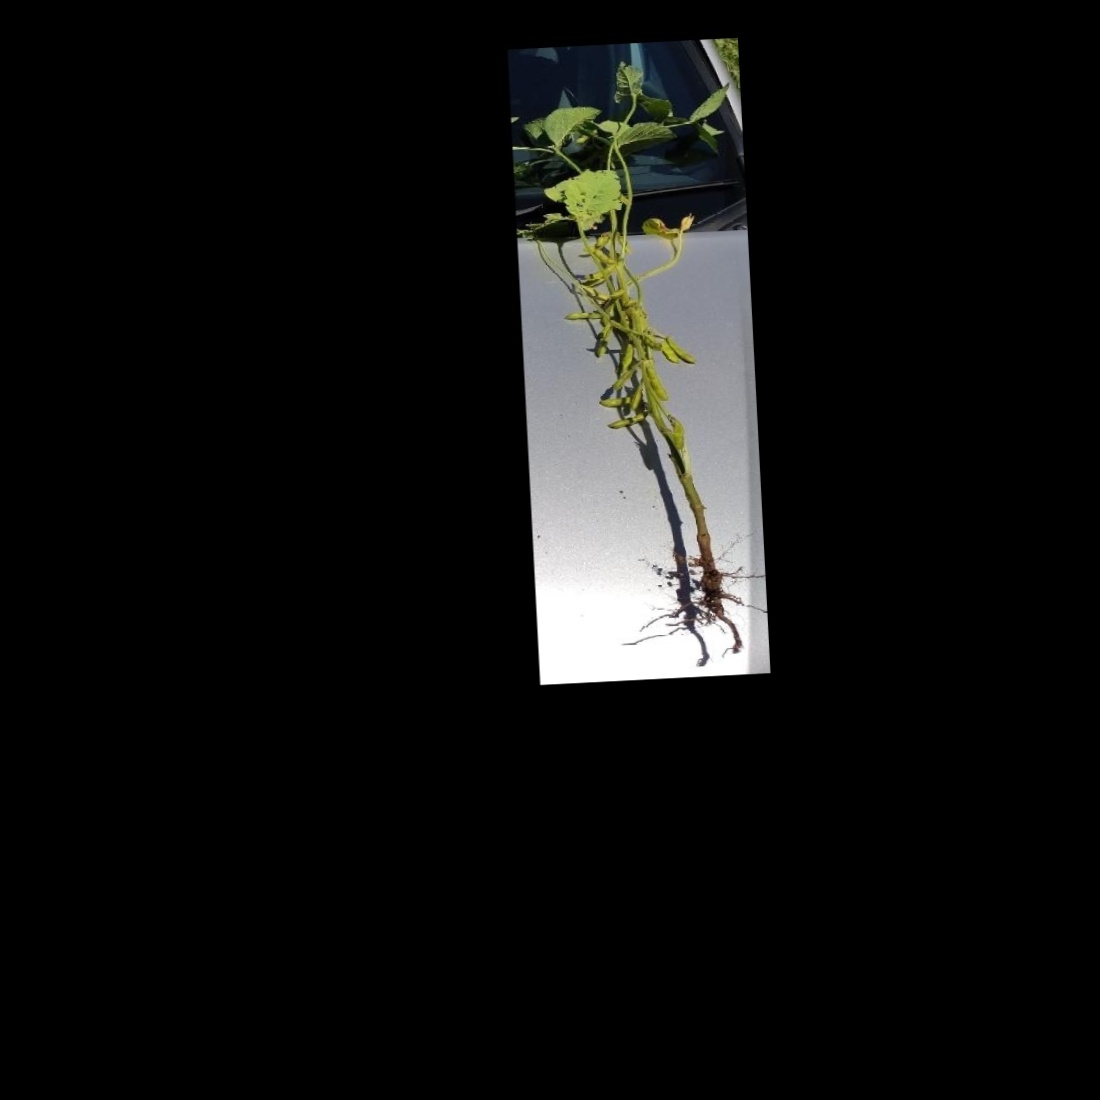pod: (641, 356, 668, 403), (664, 333, 697, 367), (601, 410, 651, 431), (560, 309, 608, 322), (593, 327, 611, 360)
soy: (542, 75, 752, 644)
